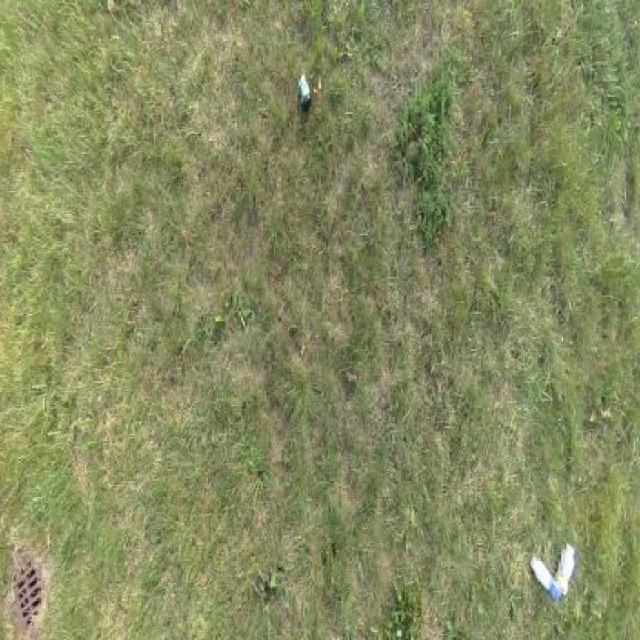Garbage: (530, 557, 562, 602), (556, 544, 577, 595), (296, 72, 312, 112)
